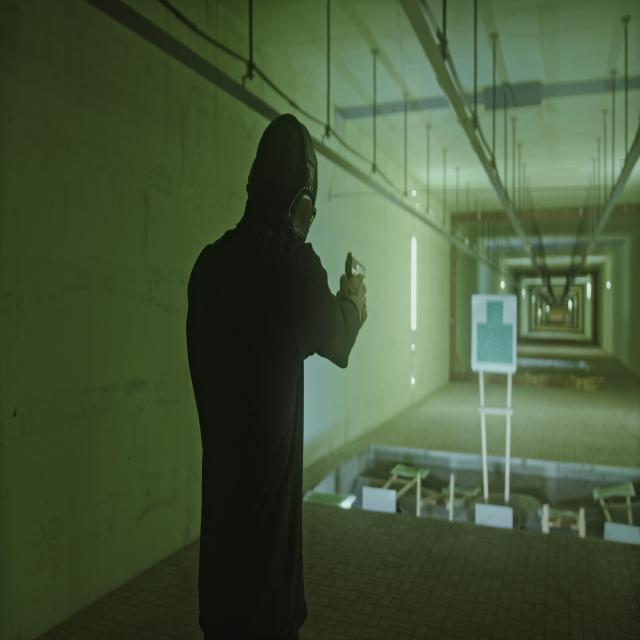Gun_Holder: (334, 242, 381, 328)
Person: (187, 107, 365, 640)
